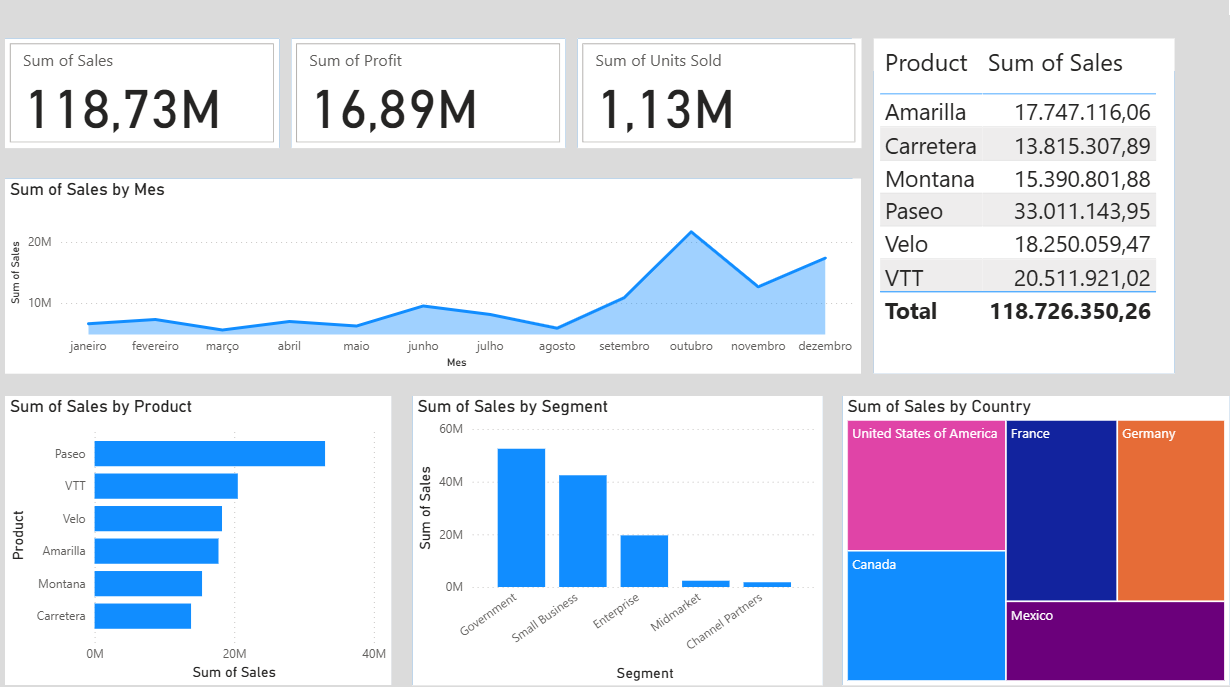

The dashboard page shown, as its layout file describes it:
{"tool":"powerbi","page":{"name":"Page 1","canvas":[1280,720],"ordinal":1},"visuals":[{"type":"shape","box":[9.6,0,1270.7,720.4],"z":0},{"type":"shape","box":[863.1,410.3,387,289.5],"z":2},{"type":"shape","box":[432.2,410.3,410.3,289.5],"z":5},{"type":"shape","box":[24.4,410.5,386,289.5],"z":6},{"type":"shape","box":[894.2,84.9,301.2,302.3],"z":7},{"type":"shape","box":[24.4,193,847.7,194.2],"z":8},{"type":"shape","box":[24.4,52.3,274.4,109.3],"z":9},{"type":"clusteredBarChart","fields":{"Category":["D_Produtos.Product"],"Y":["Sum(F_Vendas. Sales)"]},"box":[24.4,410.5,386,289.5],"z":10},{"type":"stackedAreaChart","fields":{"Y":["Sum(F_Vendas.Sales)"],"Category":["D_Calendario.Mes"]},"box":[25,192.5,856.2,195],"z":11},{"type":"tableEx","fields":{"Values":["D_Produtos.Product","Sum(F_Vendas.Sales)"]},"box":[894.2,52.3,301.2,334.9],"z":12},{"type":"cardVisual","fields":{"Data":["Sum(F_Vendas.Sales)"]},"box":[24.4,52.3,274.4,109.3],"z":13},{"type":"shape","box":[311.6,52.3,274.4,109.3],"z":14},{"type":"shape","box":[597.7,52.3,274.4,109.3],"z":15},{"type":"cardVisual","fields":{"Data":["Sum(F_Vendas.Profit)"]},"box":[311.6,52.3,274.4,109.3],"z":16},{"type":"cardVisual","fields":{"Data":["Sum(F_Vendas.Units Sold)"]},"box":[597.7,52.3,283.7,109.3],"z":17},{"type":"treemap","fields":{"Group":["D_Categoria.Country"],"Values":["Sum(F_Vendas.Sales)"]},"box":[862.5,410,387.5,290],"z":18},{"type":"clusteredColumnChart","fields":{"Category":["D_Categoria.Segment"],"Y":["Sum(F_Vendas.Sales)"]},"box":[432.5,410,410,290],"z":19}]}

Visuals, with their boxes in screenshot pixels (x1, y1, x2, y2), scaled from the page's 1280x720 canvas onto the 1230x687 screenshot:
shape: <region>9, 0, 1229, 686</region>
shape: <region>829, 391, 1201, 668</region>
shape: <region>415, 391, 810, 668</region>
shape: <region>23, 392, 394, 668</region>
shape: <region>859, 81, 1149, 369</region>
shape: <region>23, 184, 838, 369</region>
shape: <region>23, 50, 287, 154</region>
clusteredBarChart - D_Produtos.Product x Sum(F_Vendas. Sales): <region>23, 392, 394, 668</region>
stackedAreaChart - Sum(F_Vendas.Sales) x D_Calendario.Mes: <region>24, 184, 847, 370</region>
tableEx - D_Produtos.Product x Sum(F_Vendas.Sales): <region>859, 50, 1149, 369</region>
cardVisual - Sum(F_Vendas.Sales): <region>23, 50, 287, 154</region>
shape: <region>299, 50, 563, 154</region>
shape: <region>574, 50, 838, 154</region>
cardVisual - Sum(F_Vendas.Profit): <region>299, 50, 563, 154</region>
cardVisual - Sum(F_Vendas.Units Sold): <region>574, 50, 847, 154</region>
treemap - D_Categoria.Country x Sum(F_Vendas.Sales): <region>829, 391, 1201, 668</region>
clusteredColumnChart - D_Categoria.Segment x Sum(F_Vendas.Sales): <region>416, 391, 810, 668</region>
